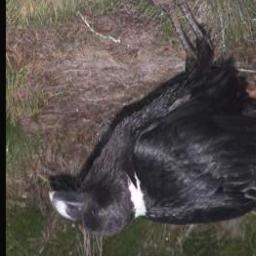Crow: (48, 0, 255, 239)
